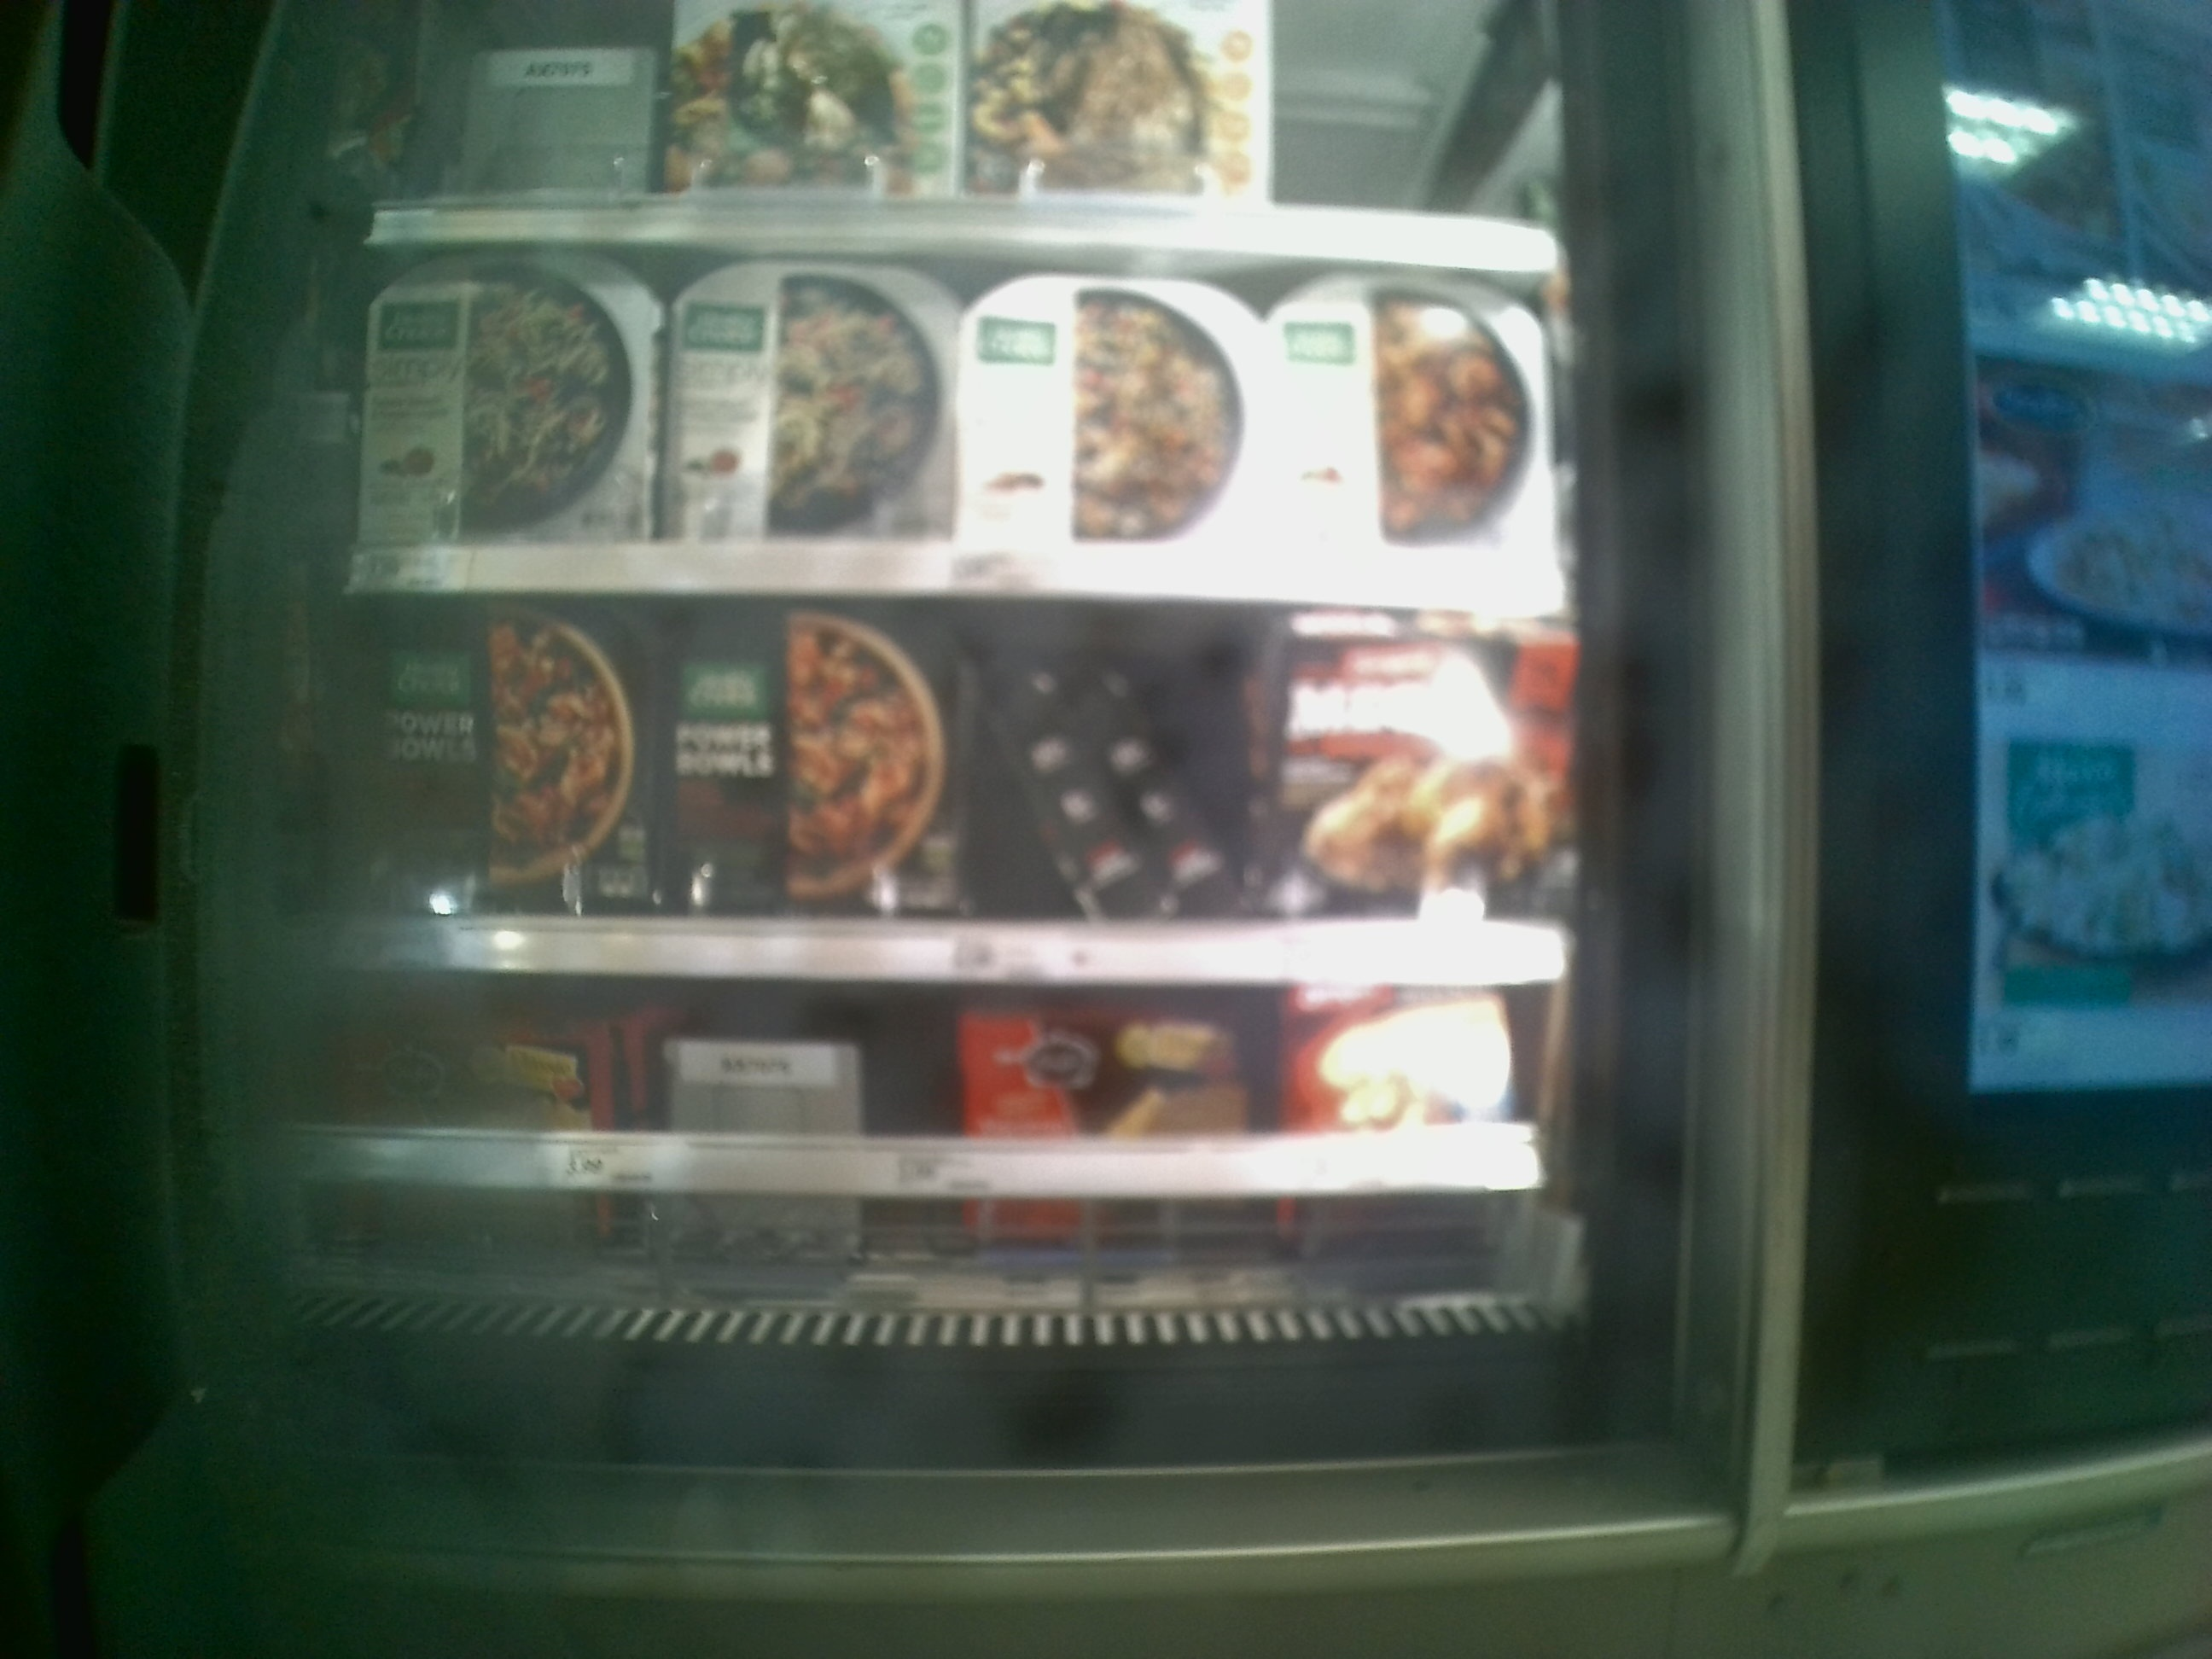shelf: (357, 594, 1585, 983), (357, 240, 1573, 603), (287, 988, 1595, 1305)
